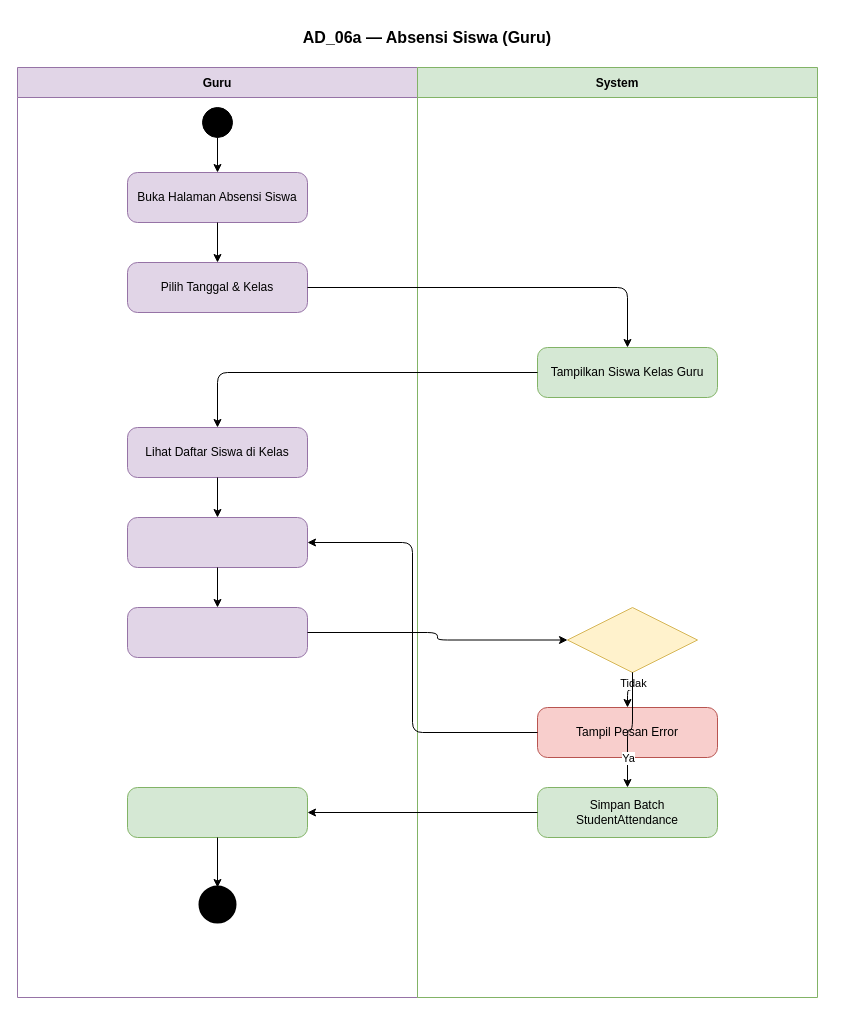
The diagram is 855 pixels wide and 1015 high, and some of its shapes have lost their labels. The shapes that lost their labels are listed below. From the top down, each one's centre as x and y in pixels, then its label:
the point at 217,542: Tandai Hadir / Tidak Hadir per Siswa
the point at 217,632: Submit Absensi
the point at 632,639: Validasi Data Absensi?
the point at 217,812: Lihat Konfirmasi Berhasil
